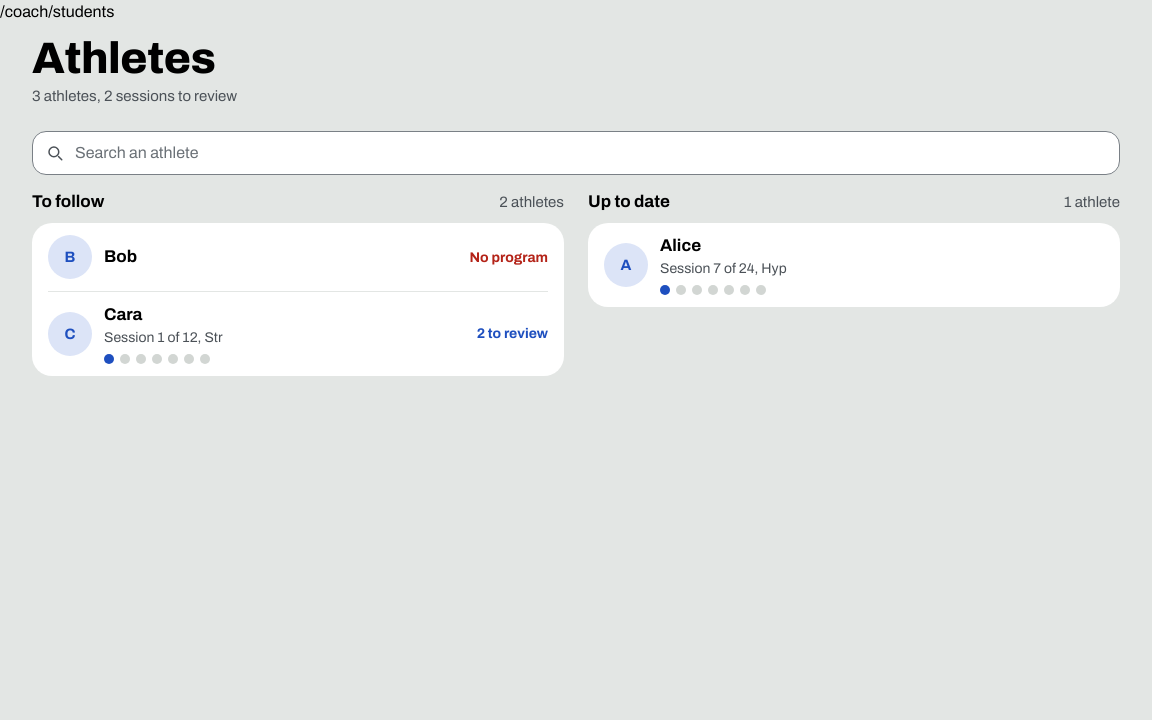
CoachHome › roster landing › filters the list by the search box
Type "ali" into the search field labelled "Search an athlete".
click(576, 153); type("ali")  # box x1=32 y1=131 x2=1120 y2=175
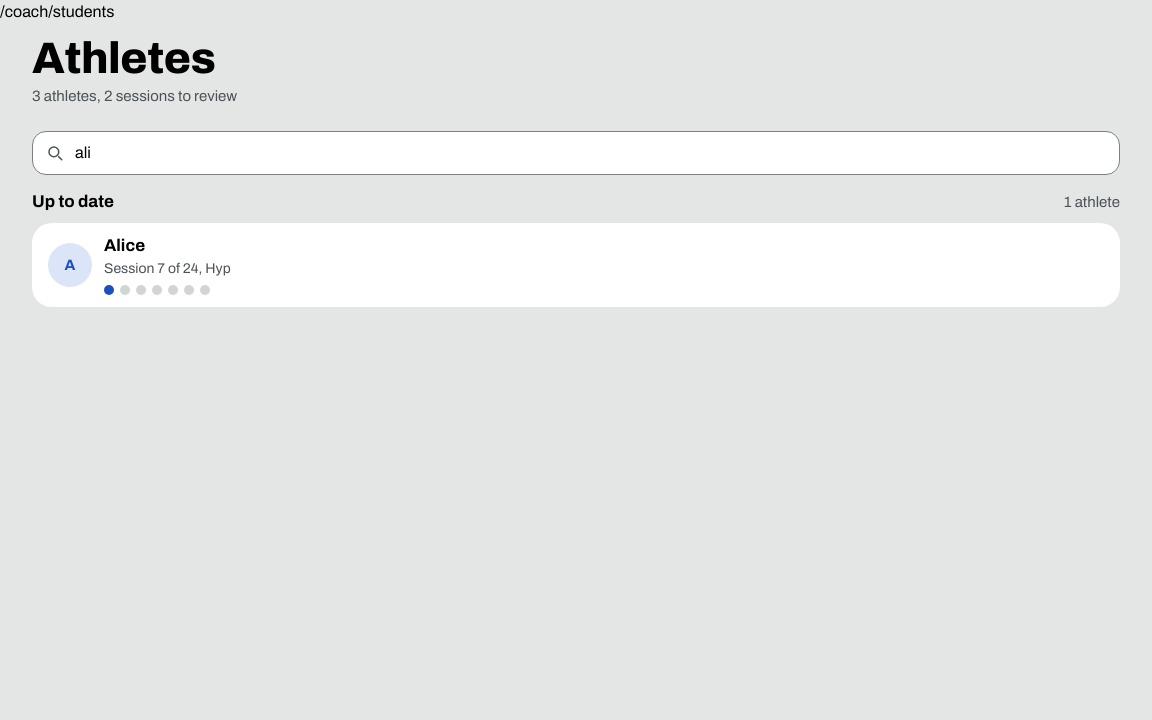
Check: the link "Alice" is shown, box x1=104 y1=236 x2=145 y2=255
Check: the link "Bob" is gone
Check: the link "Cara" is gone
